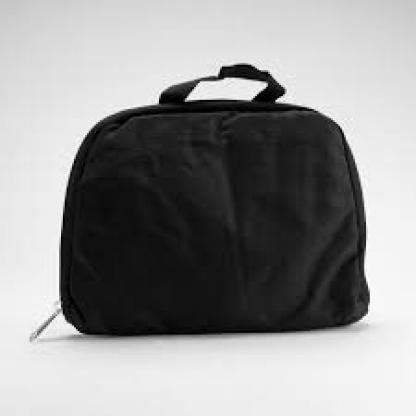morral: (30, 57, 392, 348)
